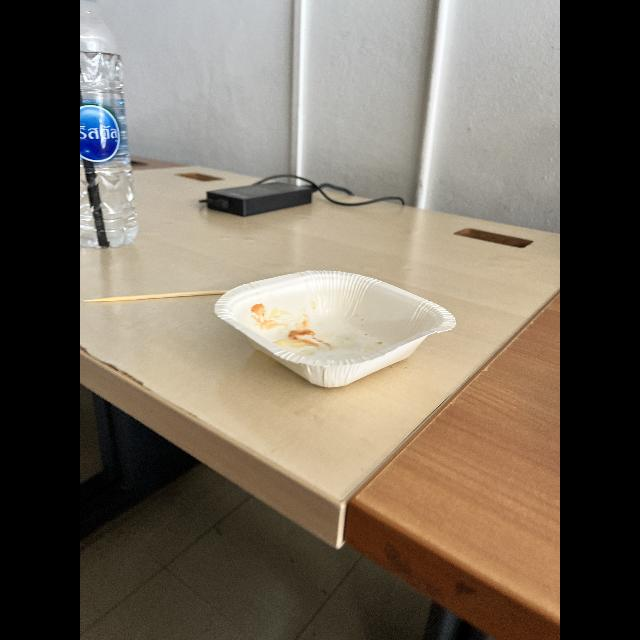cardboard_bowl: (217, 264, 456, 394)
stick: (80, 286, 226, 306)
